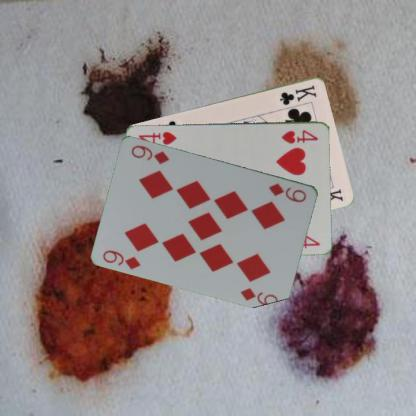4h: (279, 127, 320, 145)
9d: (266, 180, 308, 204), (100, 247, 142, 271)
Kc: (277, 82, 318, 106)
